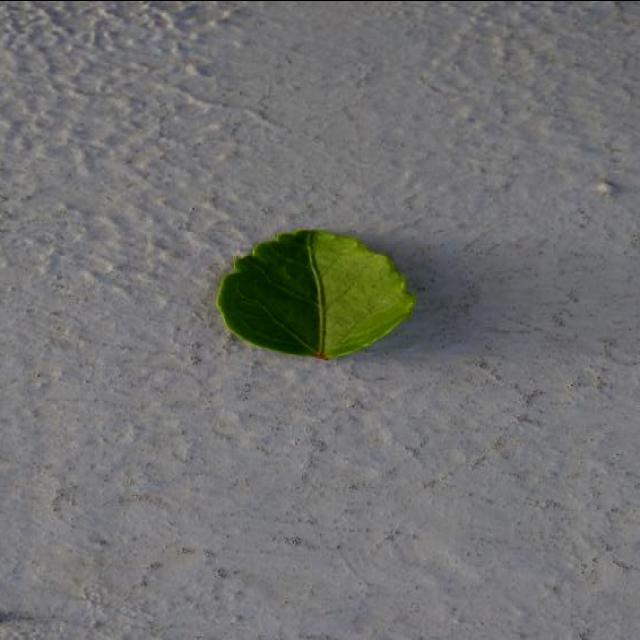leaf: (214, 227, 416, 360)
